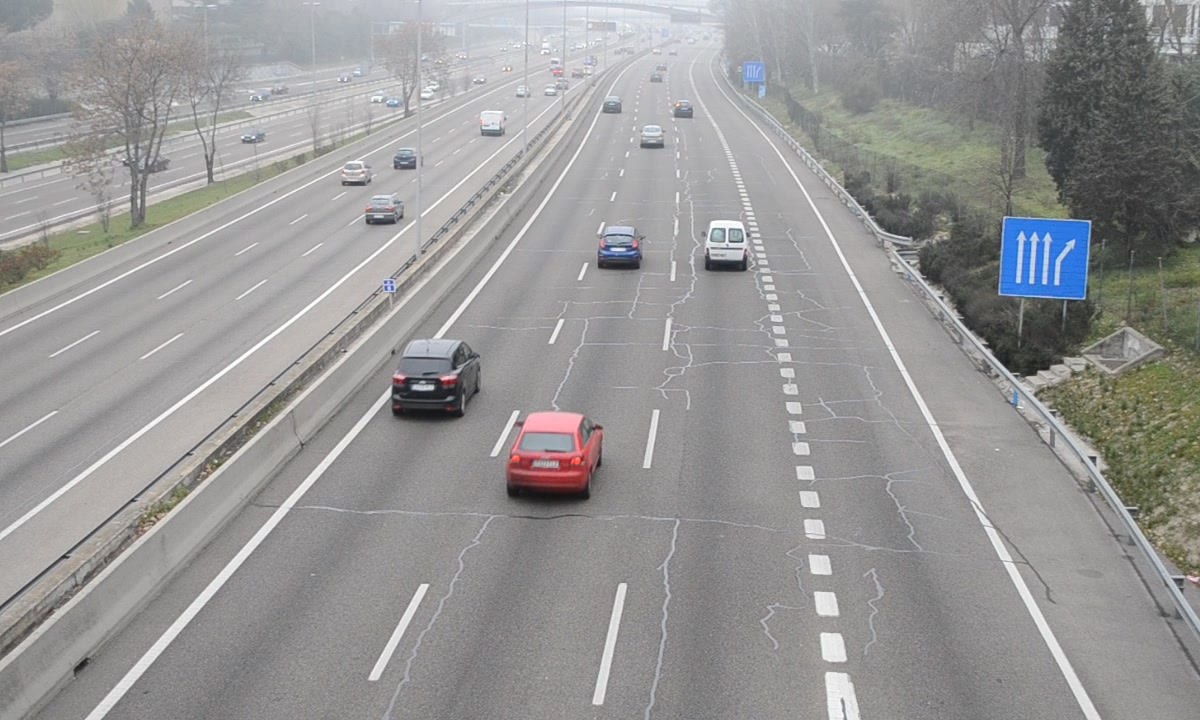car: (506, 414, 600, 495), (391, 339, 478, 415), (598, 227, 641, 268), (639, 124, 666, 149)
van: (706, 220, 748, 268)
